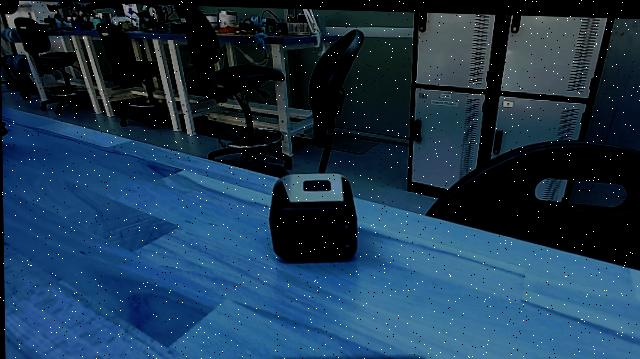adapter: (261, 166, 364, 268)
